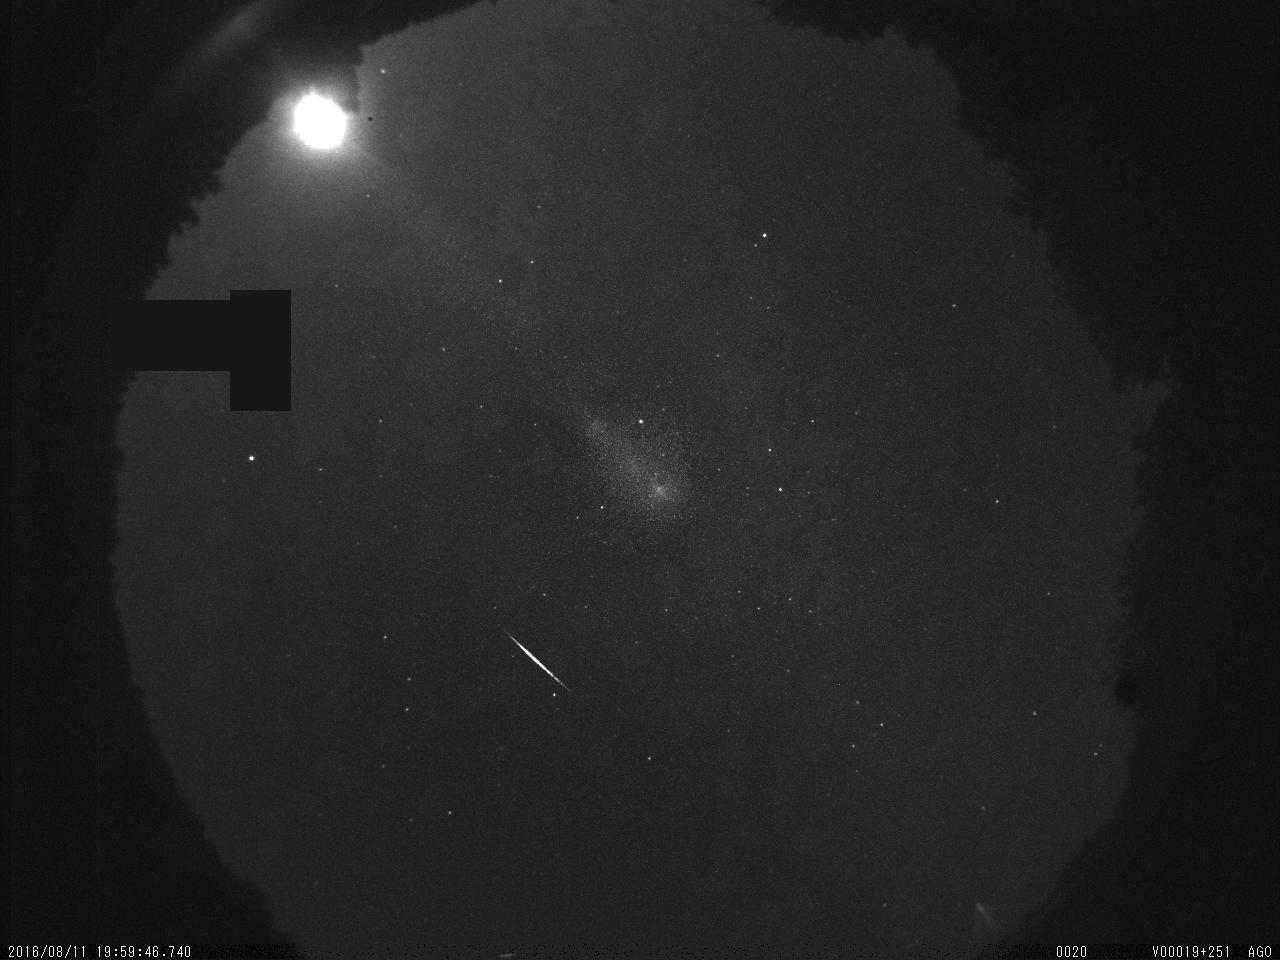Meteor: (502, 625, 572, 693)
